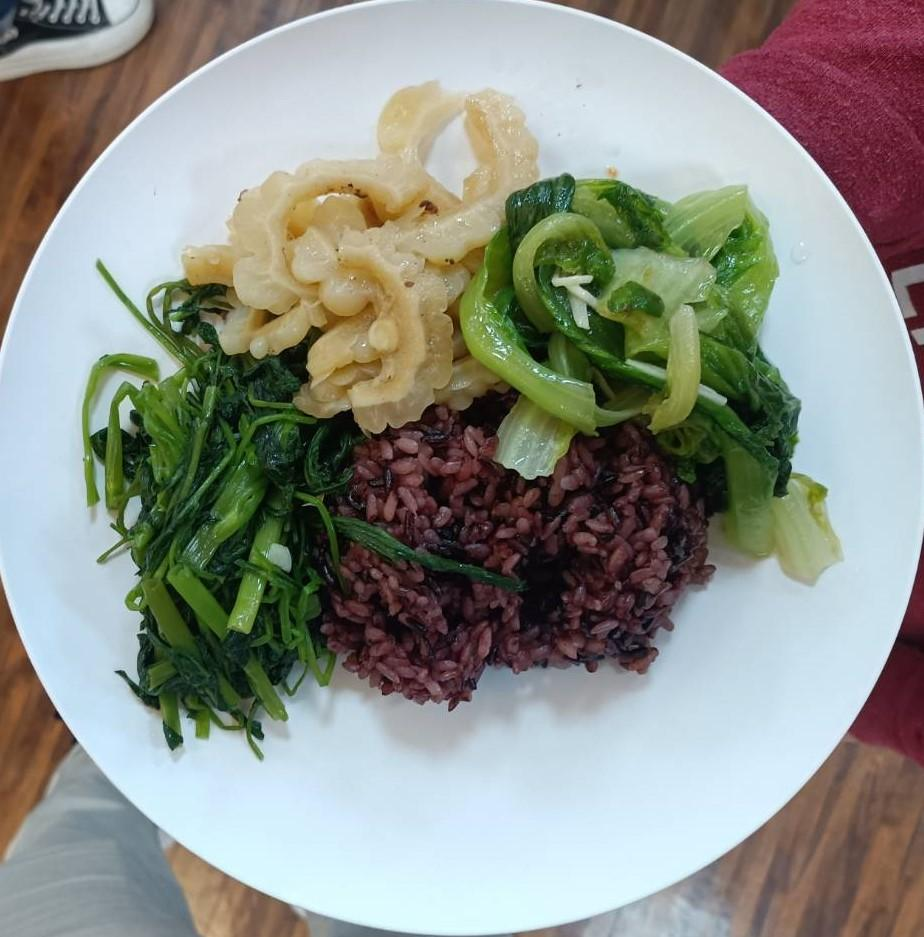big fried chicken leg: (0, 10, 924, 932)
braised fish: (314, 396, 703, 687)
braised fish fillet: (82, 300, 338, 737), (215, 80, 524, 427), (482, 162, 807, 484)
